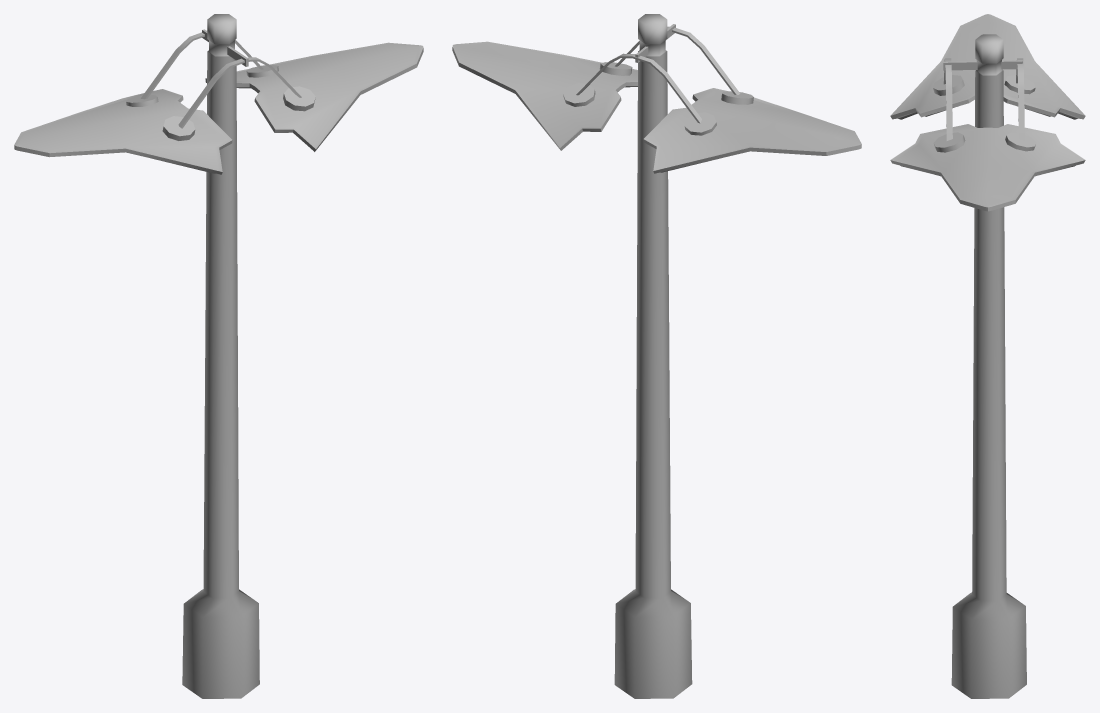
The model's file is KF_Kalonji_SM_StreetLight (Trimsheet).fbx.
3 renders of one model, left to right at view 1: azimuth 30°, elevation 25°; view 2: azimuth 150°, elevation 25°; view 3: azimuth 270°, elevation 25°, orthographic. The views are drawn at different scales.
Parts seen in each view (by area): view 1: Steel, Top02, Top, Connector002, Connector003, Cylinder006; view 2: Steel, Top02, Top, Connector003, Connector002; view 3: Steel, Top, Top02, Connector003, Connector002, Connector001, Cylinder006, Cylinder009, Cylinder007, Cylinder008.
Part boxes in pixels (x1,y1,x2,y2): Steel: [182, 14, 259, 698]; Top02: [14, 89, 232, 174]; Top: [205, 42, 423, 151]; Connector002: [178, 57, 301, 128]; Connector003: [141, 30, 263, 99]; Cylinder006: [283, 86, 315, 111]; Steel: [614, 14, 692, 698]; Top02: [643, 88, 861, 173]; Top: [452, 41, 637, 150]; Connector003: [576, 53, 701, 123]; Connector002: [615, 26, 740, 94]; Steel: [951, 34, 1026, 698]; Top: [890, 124, 1085, 211]; Top02: [890, 14, 1085, 119]; Connector003: [1016, 58, 1024, 141]; Connector002: [943, 58, 952, 140]; Connector001: [943, 60, 1022, 70]; Cylinder006: [933, 132, 965, 152]; Cylinder009: [1005, 132, 1036, 151]; Cylinder007: [933, 75, 964, 95]; Cylinder008: [1004, 75, 1035, 94].
Size of the model in its own units: 328 by 509 by 140.
